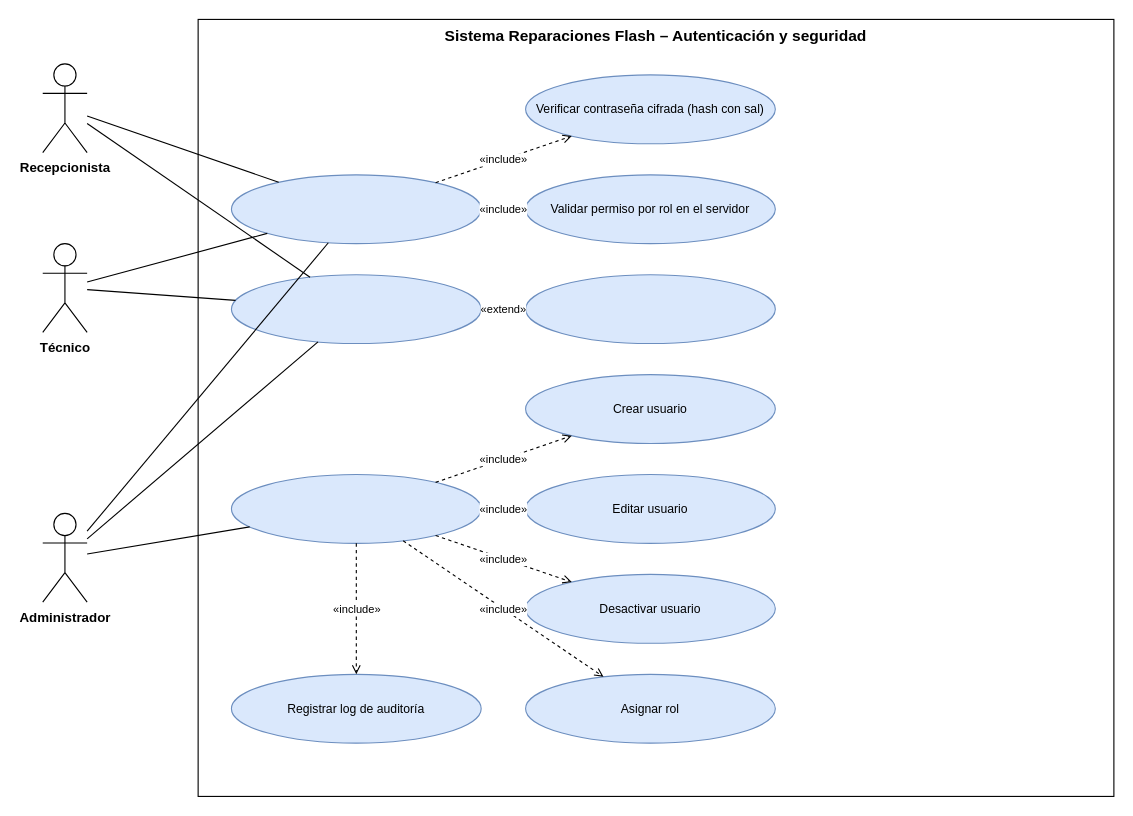
The diagram is 1133 pixels wide and 816 high, and some of its shapes have lost their labels. The shapes that lost their labels are listed below. From the top down, each one's centre as x and y in pixels, then its label:
At (x=355, y=209): "Iniciar sesión".
At (x=355, y=309): "Cerrar sesión".
At (x=649, y=309): "Cerrar sesión por 15 min de inactividad".
At (x=355, y=508): "Gestionar usuarios y roles".
